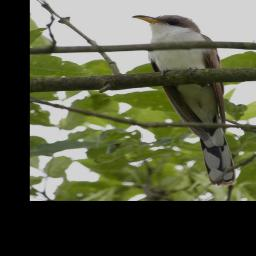Cuckoo: (130, 14, 236, 186)
